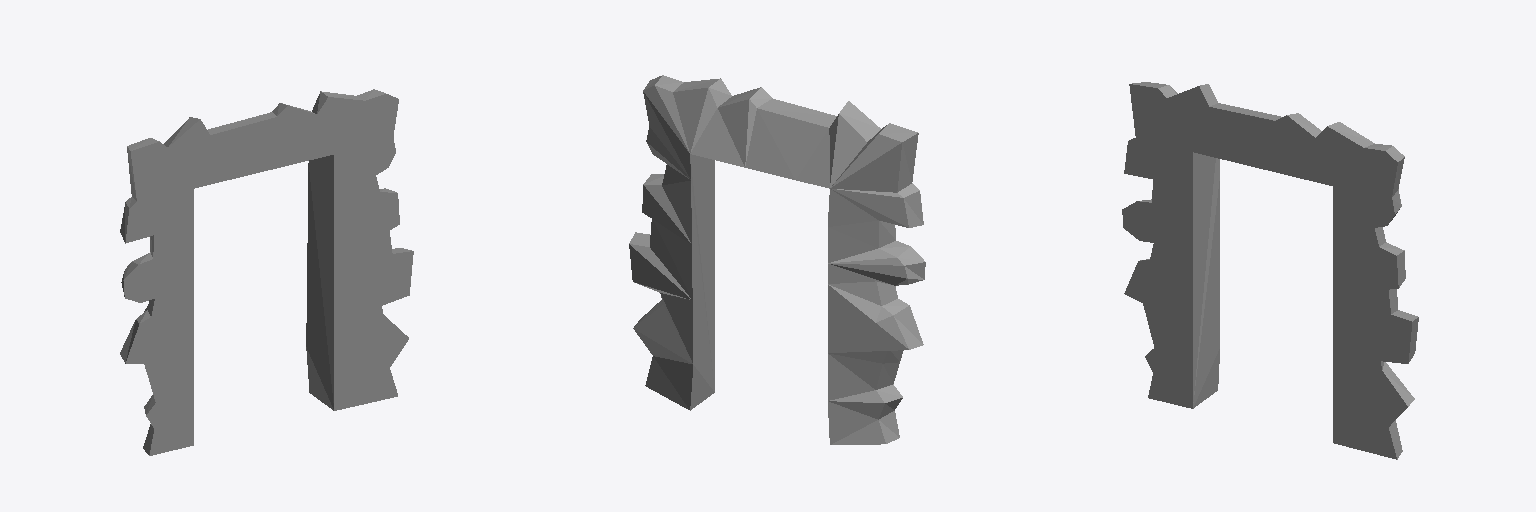
Rendered from door.obj.
The picture shows the model from 3 angles: view 1: azimuth 30°, elevation 25°; view 2: azimuth 150°, elevation 25°; view 3: azimuth 330°, elevation 25°; orthographic projection.
Parts seen in each view (by area): view 1: Box01; view 2: Box01; view 3: Box01.
Boxes of the visible parts, box(x1,y1,x2,y2) form: Box01: box(120, 89, 413, 455); Box01: box(629, 75, 925, 444); Box01: box(1122, 82, 1418, 459).
Bounding box in the file's own units: 82.84 × 88.79 × 12.52.